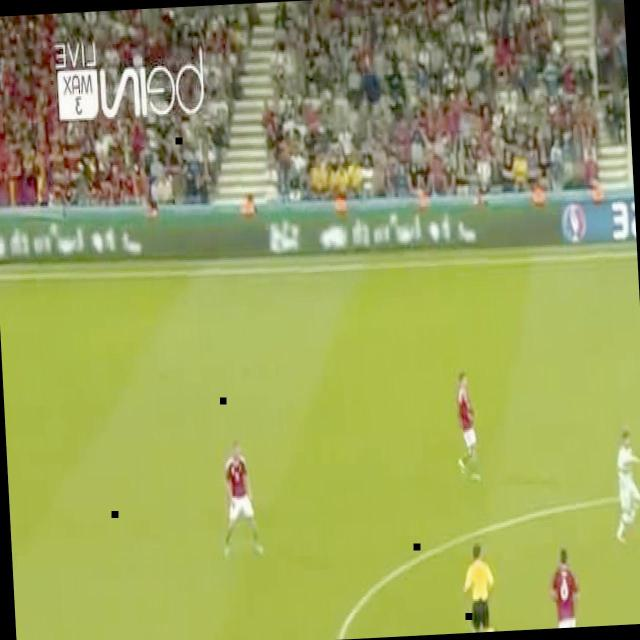player-white: (217, 440, 265, 558), (609, 430, 640, 547), (452, 371, 482, 483), (462, 542, 498, 632), (550, 547, 582, 628)
